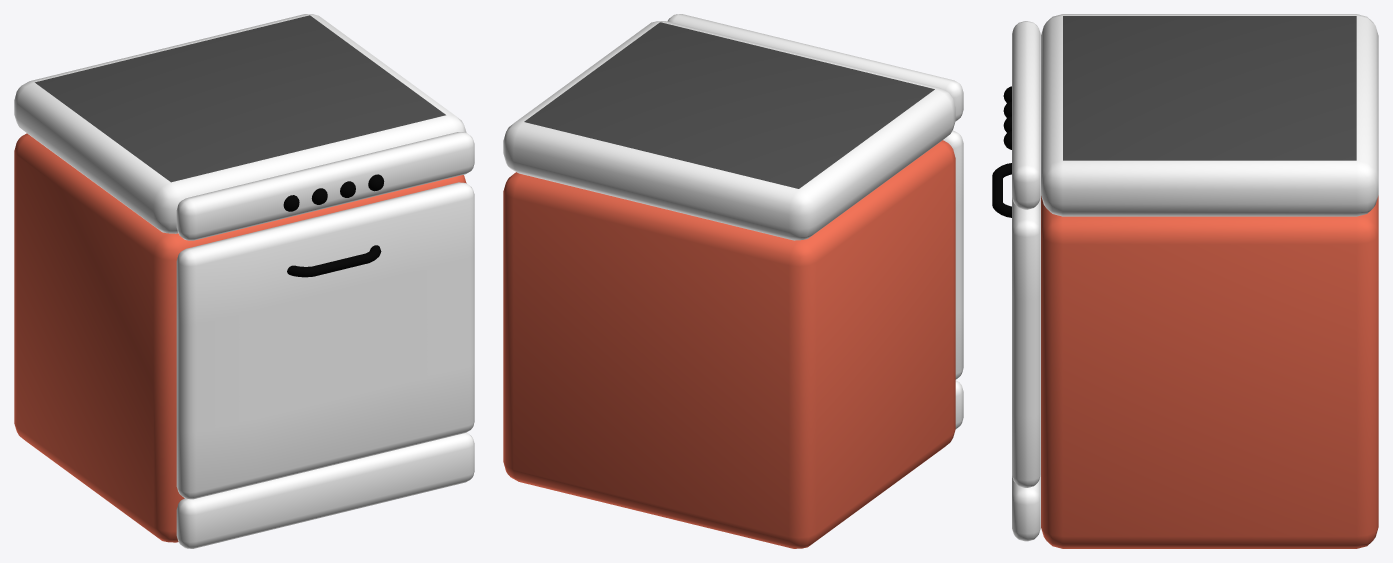
The model's file is oven.glb.
3 views of the same model, side by side, from view 1: azimuth 30°, elevation 25°; view 2: azimuth 150°, elevation 25°; view 3: azimuth 270°, elevation 25° (orthographic). The views are drawn at different scales.
Visible parts, largest first — view 1: door, body, top.002; view 2: body, top.002, door; view 3: body, top.002, door.
Part boxes in pixels (bbox=[...]): door: bbox=[176, 182, 474, 499]; body: bbox=[14, 133, 474, 548]; top.002: bbox=[14, 14, 474, 240]; body: bbox=[503, 140, 963, 548]; top.002: bbox=[503, 14, 963, 240]; door: bbox=[943, 130, 963, 379]; body: bbox=[1012, 195, 1378, 548]; top.002: bbox=[1003, 14, 1378, 216]; door: bbox=[992, 163, 1040, 487].
Size of the model in its own units: 0.6221 by 0.6869 by 0.6224.
Materials: 1 (1 with a texture image).
